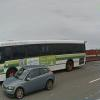Bus: (4, 34, 89, 70)
